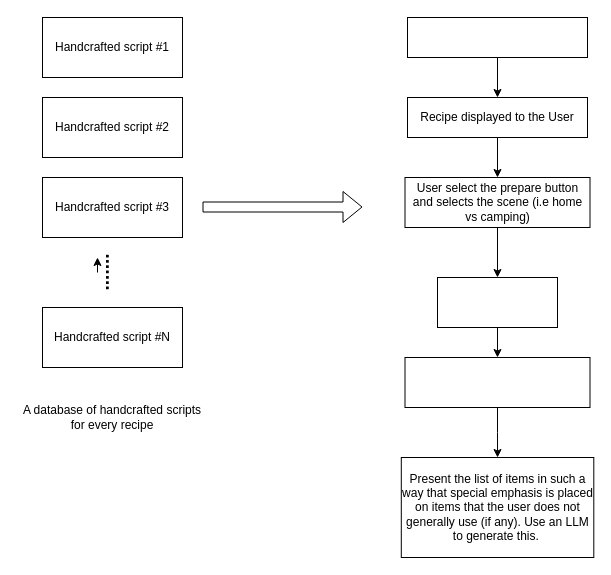
The diagram is 611 pixels wide and 575 high, and some of its shapes have lost their labels. The box of each missing label's shape, as (x1, y1, x2, y2) in pixels:
Extract Required Items from all the plans: (404, 356, 590, 408)
Load the List of most matching grounded plans: (436, 276, 558, 328)
User selects a chai type: (406, 16, 588, 58)
